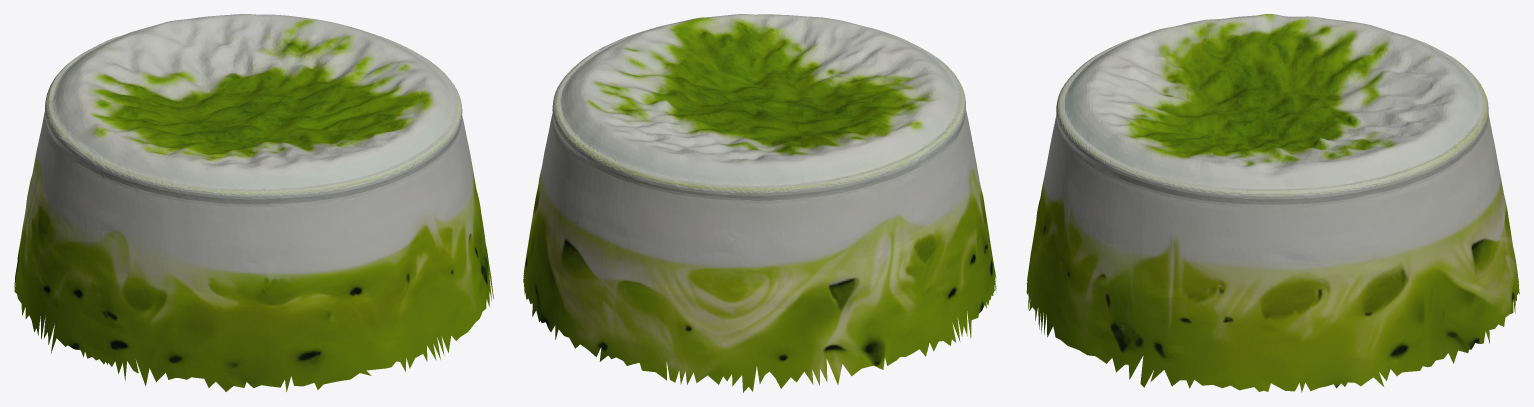
Rendered from matcha_topping.glb.
3 views of the same model, side by side, from view 1: azimuth 30°, elevation 25°; view 2: azimuth 150°, elevation 25°; view 3: azimuth 270°, elevation 25° (orthographic). The views are drawn at different scales.
Parts seen in each view (by area): view 1: matcha_topping; view 2: matcha_topping; view 3: matcha_topping.
Boxes of the visible parts, x1,y1,x2,y2 form: matcha_topping: (14,14,493,391); matcha_topping: (523,14,996,392); matcha_topping: (1026,14,1519,392).
Size of the model in its own units: 0.7082 by 0.343 by 0.7176.
Materials: 1 (1 with a texture image).
